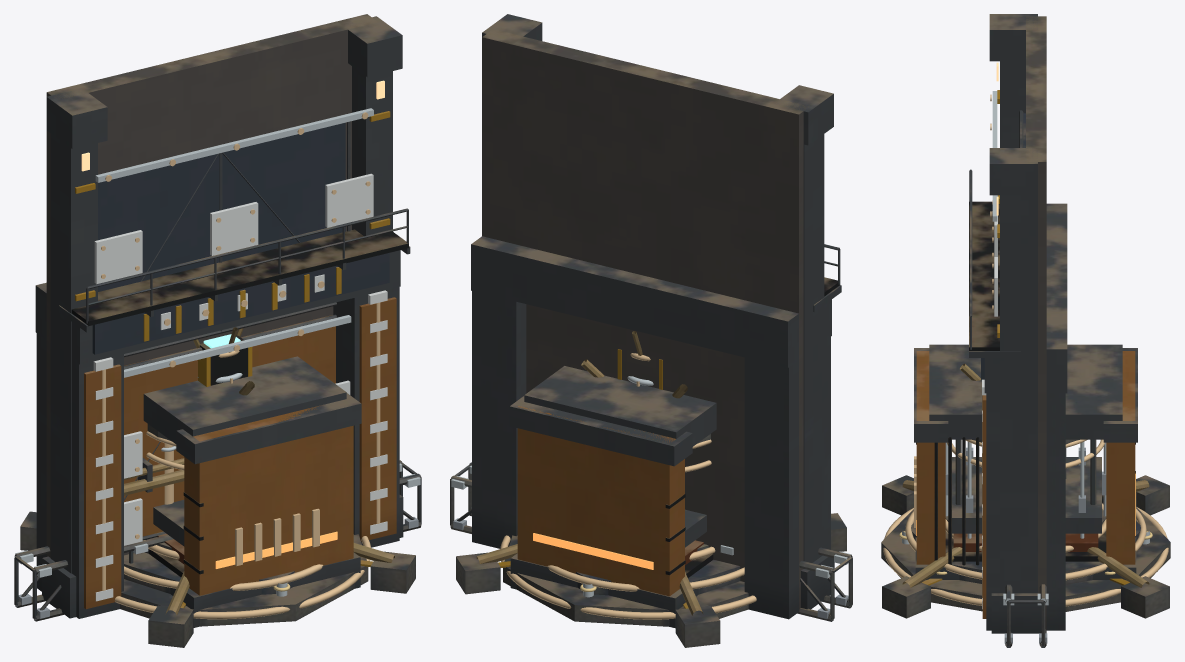
File: foundry_kit.glb
3 views of the same model, side by side, from view 1: azimuth 30°, elevation 25°; view 2: azimuth 150°, elevation 25°; view 3: azimuth 270°, elevation 25° (orthographic). The views are drawn at different scales.
Visible parts, largest first — view 1: Wall_Bay, Press, Door_Frame, Wall_Bay_HardSurface, Resonator_Base, Door_Frame_HardSurface, Resonator_Base_HardSurface, Truss, Press_HardSurface, Truss_HardSurface, Press_Glow; view 2: Wall_Bay, Door_Frame, Press, Resonator_Base, Resonator_Base_HardSurface, Truss, Press_Glow, Truss_HardSurface; view 3: Wall_Bay, Press, Door_Frame, Resonator_Base, Resonator_Base_HardSurface, Vat_Frame_HardSurface, Vat_Frame, Wall_Bay_HardSurface, Truss.
Part boxes in pixels (box(x1,y1,x2,y2)): Wall_Bay: box(42, 14, 410, 618); Press: box(143, 335, 361, 627); Door_Frame: box(35, 230, 400, 618); Wall_Bay_HardSurface: box(94, 108, 373, 545); Resonator_Base: box(20, 511, 415, 647); Door_Frame_HardSurface: box(93, 274, 387, 601); Resonator_Base_HardSurface: box(114, 536, 370, 619); Truss: box(14, 460, 421, 621); Press_HardSurface: box(161, 443, 319, 566); Truss_HardSurface: box(15, 463, 420, 618); Press_Glow: box(215, 531, 337, 568); Wall_Bay: box(482, 14, 841, 611); Door_Frame: box(471, 236, 831, 619); Press: box(509, 349, 716, 628); Resonator_Base: box(456, 513, 846, 647); Resonator_Base_HardSurface: box(500, 535, 756, 619); Truss: box(450, 462, 852, 621); Press_Glow: box(533, 533, 653, 569); Truss_HardSurface: box(451, 465, 851, 618); Wall_Bay: box(969, 14, 1046, 633); Press: box(914, 344, 1137, 579); Door_Frame: box(981, 203, 1067, 630); Resonator_Base: box(881, 475, 1170, 618); Resonator_Base_HardSurface: box(883, 503, 1168, 606); Vat_Frame_HardSurface: box(945, 439, 1106, 538); Vat_Frame: box(955, 363, 1096, 504); Wall_Bay_HardSurface: box(990, 91, 997, 316); Truss: box(1005, 584, 1046, 647).
Bounding box in the file's own units: 12.11 × 15.09 × 8.4.
Materials: 5 (1 with a texture image).
